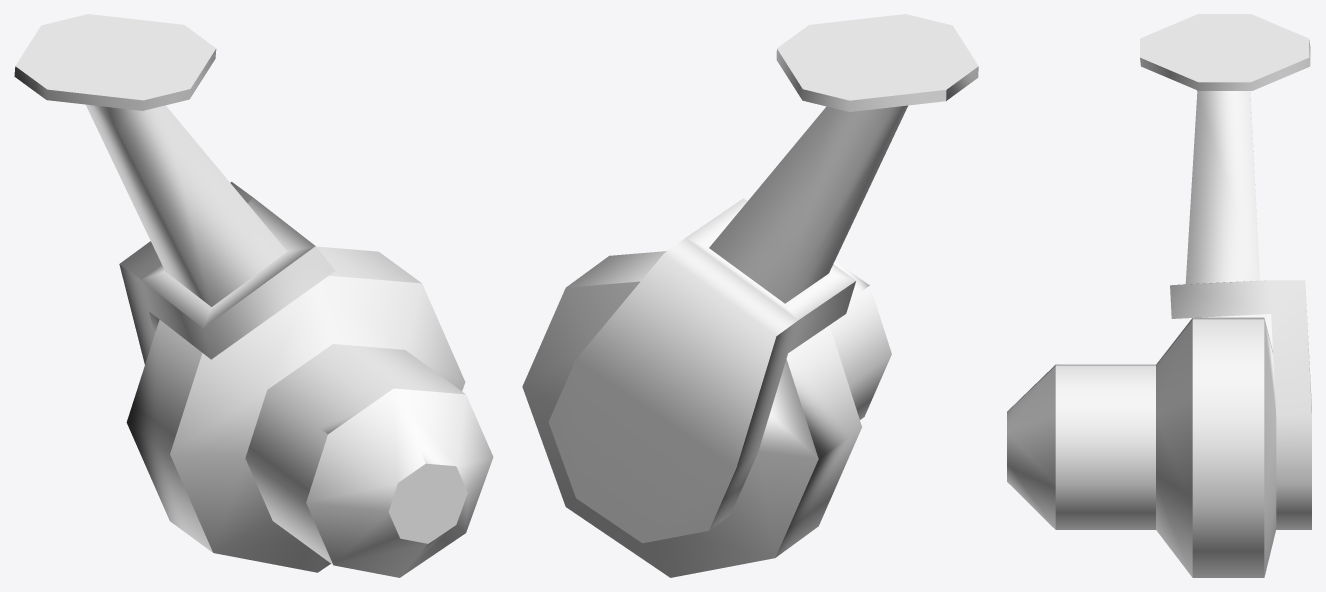
File: neckj1.dae
3 renders of one model, left to right at view 1: azimuth 30°, elevation 25°; view 2: azimuth 150°, elevation 25°; view 3: azimuth 270°, elevation 25°, orthographic. The views are drawn at different scales.
Parts seen in each view (by area): view 1: Cylinder; view 2: Cylinder; view 3: Cylinder.
Part boxes in pixels (x1=…): Cylinder: x1=14, y1=14, x2=493, y2=577; Cylinder: x1=522, y1=14, x2=978, y2=577; Cylinder: x1=1007, y1=14, x2=1311, y2=577.
Size of the model in its own units: 0.1185 by 0.0912 by 0.1489.
1 material, 1 textured.
